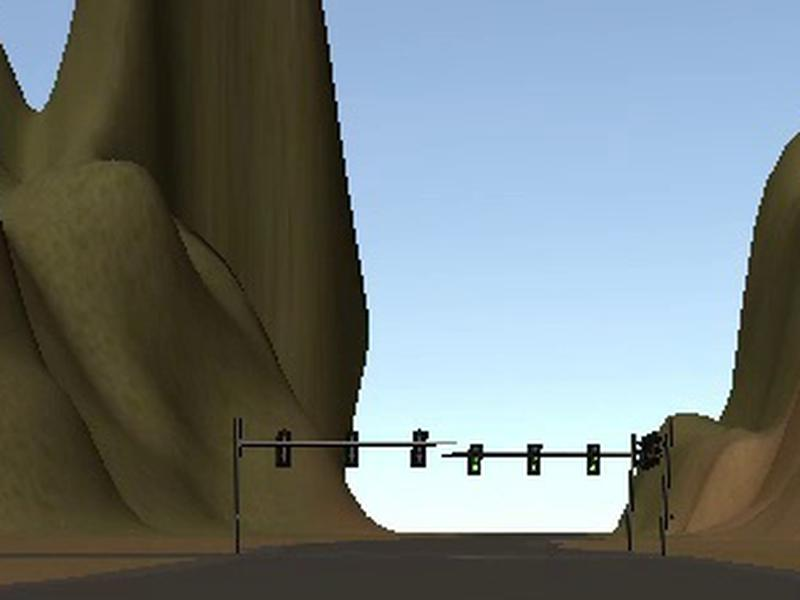Green: (467, 443, 483, 476), (526, 443, 542, 476), (586, 444, 601, 474)
